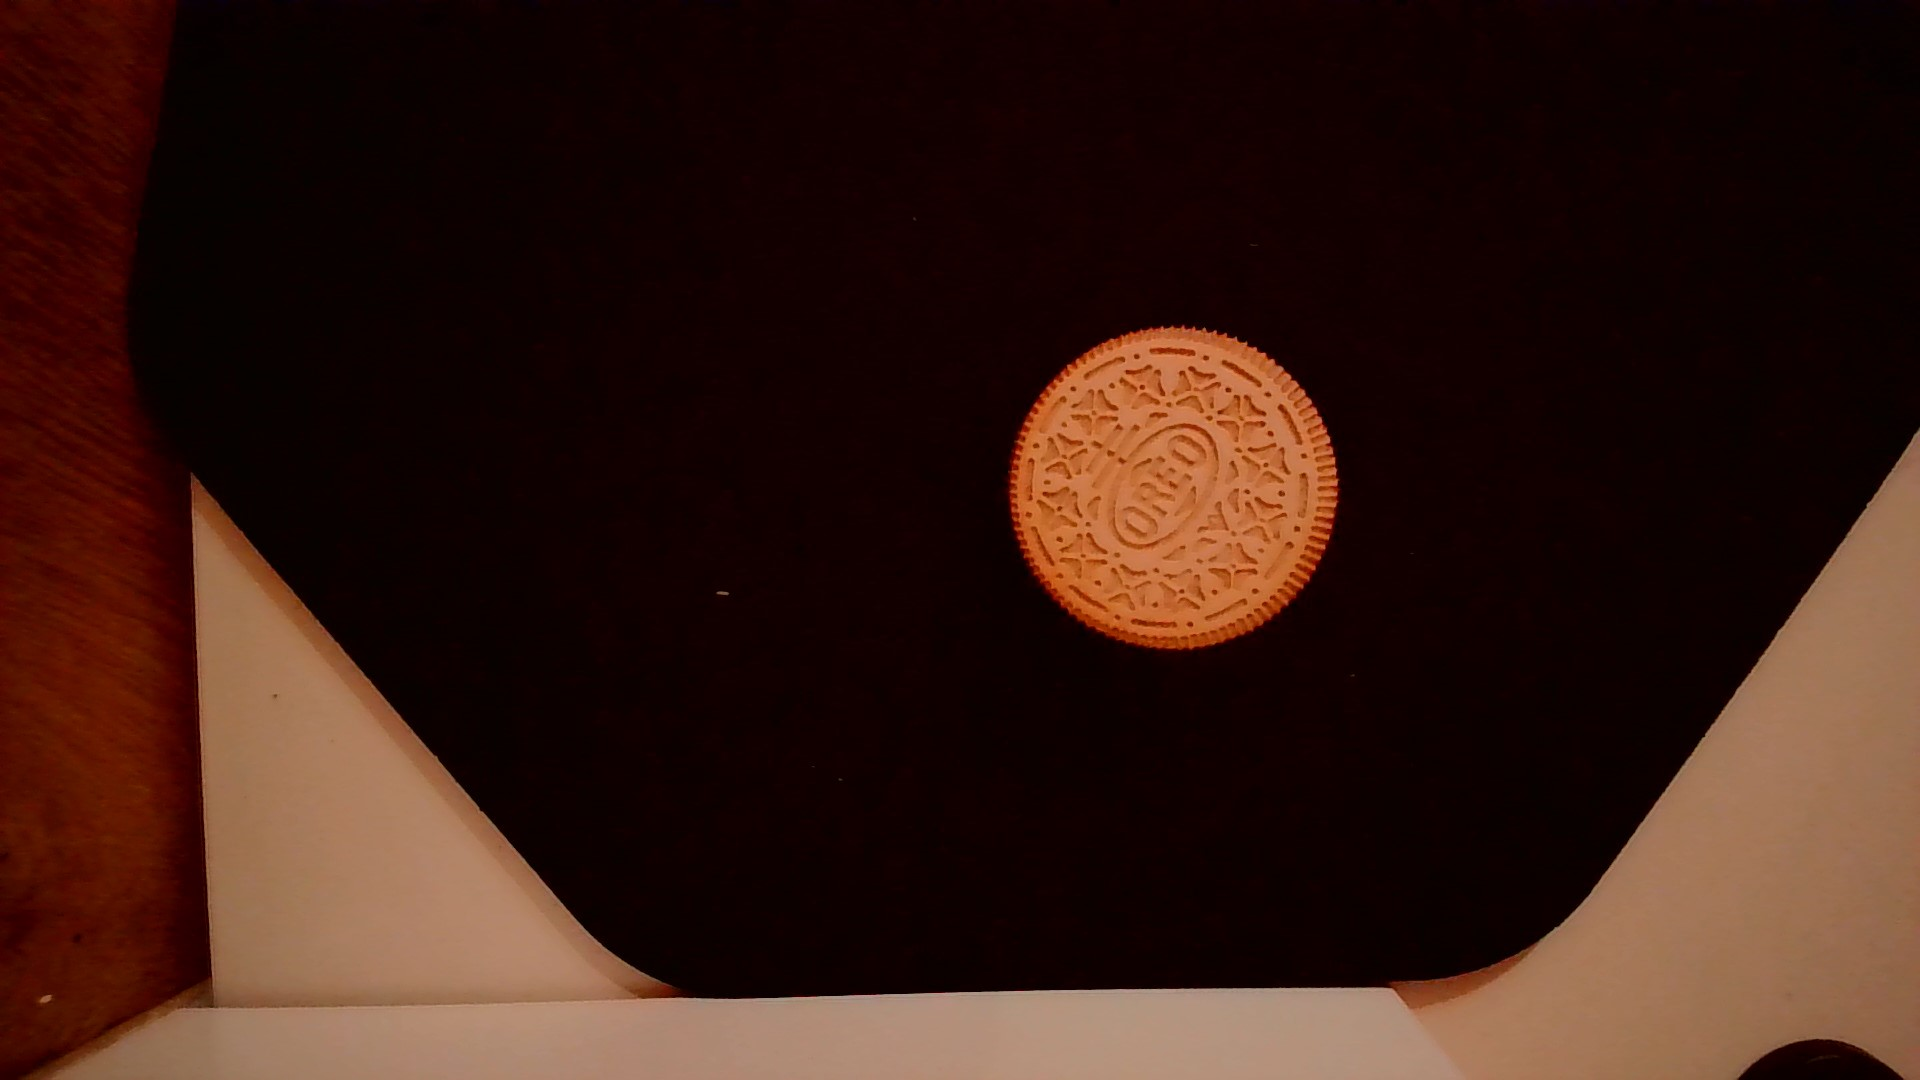Oréo: (996, 319, 1346, 665)
